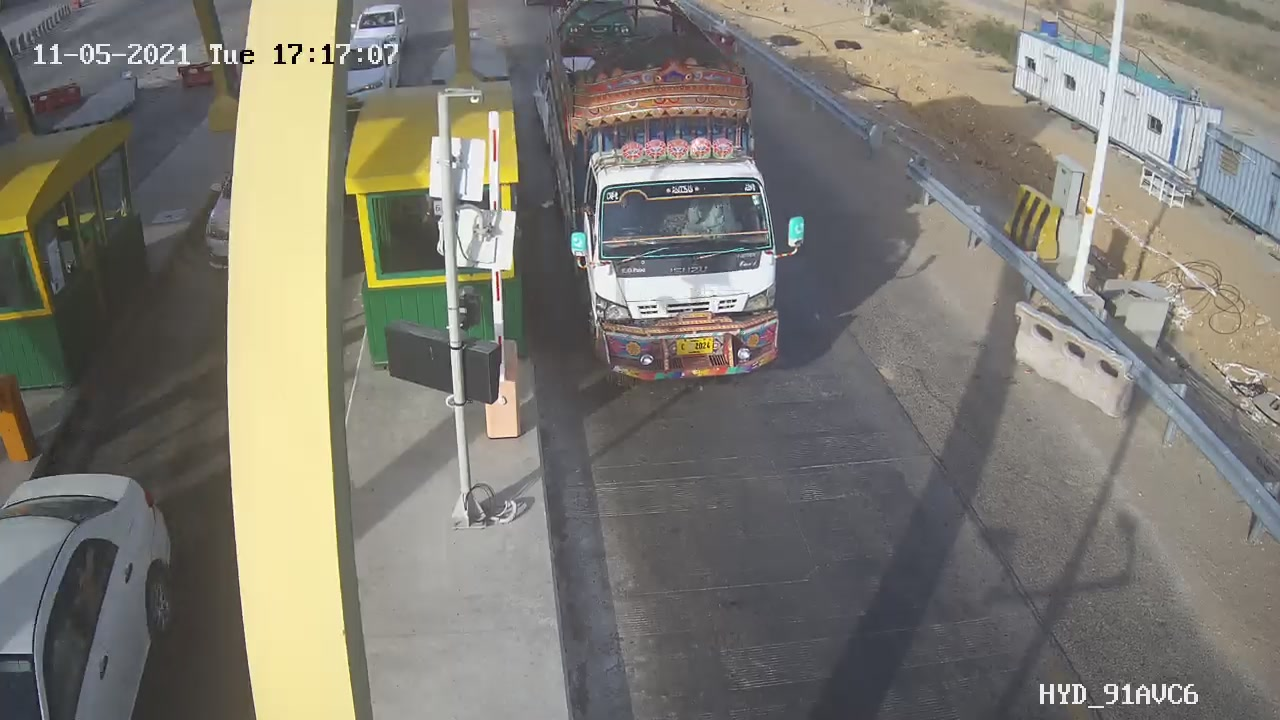F5: (522, 1, 826, 403)
